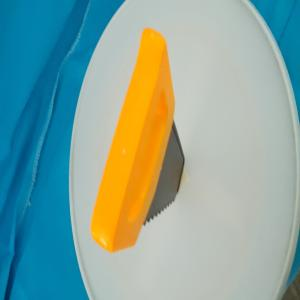serrote: (90, 27, 186, 252)
